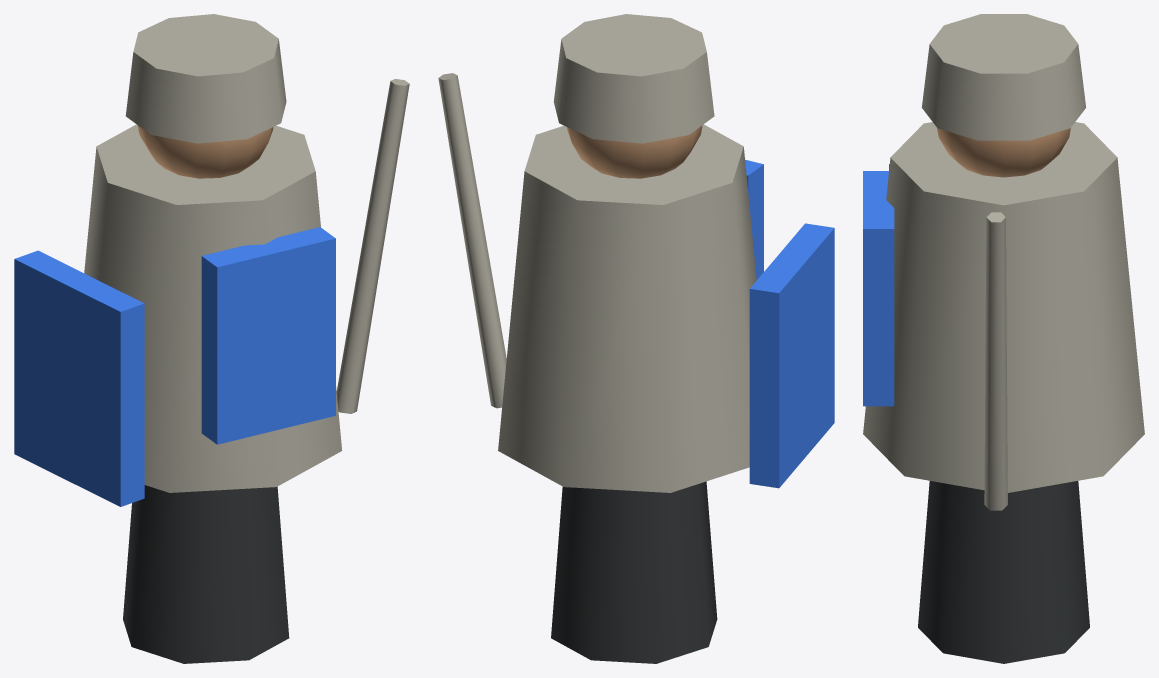
File: footman.glb
The picture shows the model from 3 angles, left to right: view 1: azimuth 30°, elevation 25°; view 2: azimuth 150°, elevation 25°; view 3: azimuth 270°, elevation 25°; orthographic projection.
Visible parts, largest first — view 1: footman-armored-body, footman-shield-team, footman-legs, footman-team-tabard, footman-helmet, footman-sword-blade, footman-head; view 2: footman-armored-body, footman-legs, footman-shield-team, footman-helmet, footman-sword-blade, footman-head, footman-team-tabard; view 3: footman-armored-body, footman-legs, footman-helmet, footman-team-tabard, footman-sword-blade, footman-head.
Part boxes in pixels (<box>): footman-armored-body: <box>84,124,342,492</box>; footman-shield-team: <box>14,250,144,506</box>; footman-legs: <box>123,485,289,663</box>; footman-team-tabard: <box>201,227,335,444</box>; footman-helmet: <box>125,14,286,143</box>; footman-sword-blade: <box>336,79,409,413</box>; footman-head: <box>137,125,273,178</box>; footman-armored-body: <box>498,124,756,492</box>; footman-legs: <box>551,481,717,663</box>; footman-shield-team: <box>749,223,834,488</box>; footman-helmet: <box>553,14,714,143</box>; footman-sword-blade: <box>438,73,506,408</box>; footman-head: <box>567,125,702,178</box>; footman-team-tabard: <box>745,159,763,279</box>; footman-armored-body: <box>863,122,1144,492</box>; footman-legs: <box>918,481,1089,663</box>; footman-helmet: <box>921,14,1086,140</box>; footman-team-tabard: <box>863,171,894,406</box>; footman-sword-blade: <box>984,212,1007,510</box>; footman-head: <box>937,128,1070,177</box>.
Bounding box in the file's own units: 1.08 × 1.65 × 0.72.
